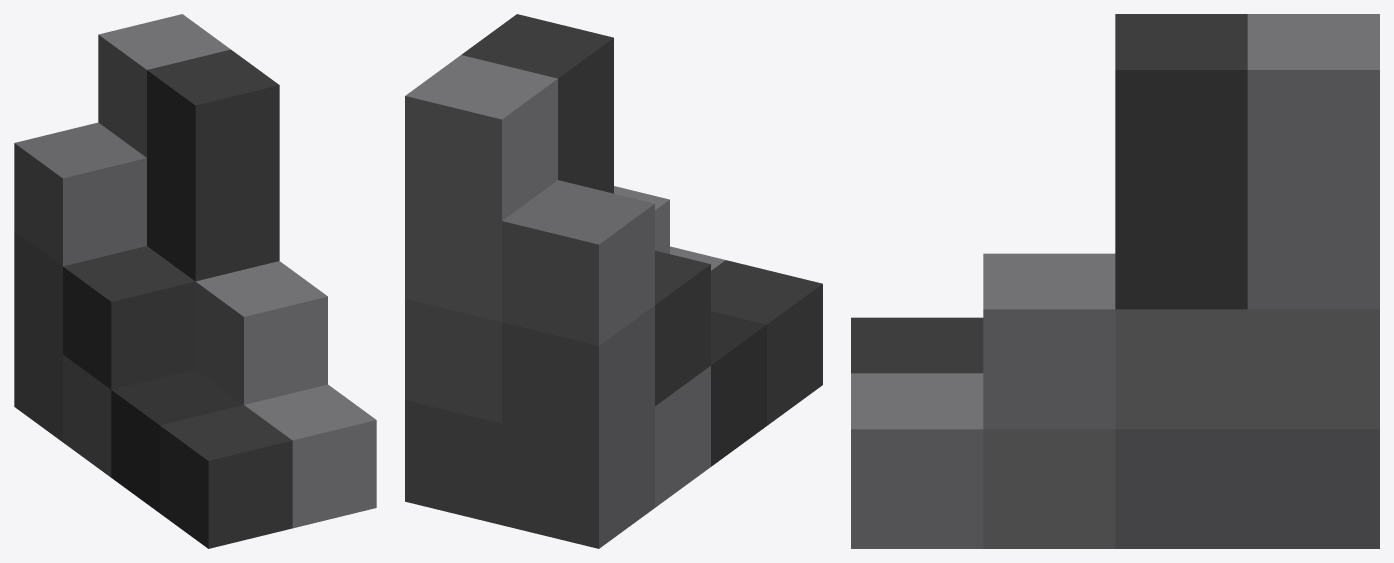
File: johnnyLegLeft.obj
The picture shows the model from 3 angles, left to right: view 1: azimuth 30°, elevation 25°; view 2: azimuth 150°, elevation 25°; view 3: azimuth 270°, elevation 25°; orthographic projection. The views are drawn at different scales.
Parts seen in each view (by area): view 1: johnnyLegLeft; view 2: johnnyLegLeft; view 3: johnnyLegLeft.
Part boxes in pixels (x1,y1,x2,y2): johnnyLegLeft: [14, 14, 376, 548]; johnnyLegLeft: [405, 14, 822, 548]; johnnyLegLeft: [851, 14, 1379, 548].
Bounding box in the file's own units: 2 × 4 × 4.
1 material, 1 textured.
